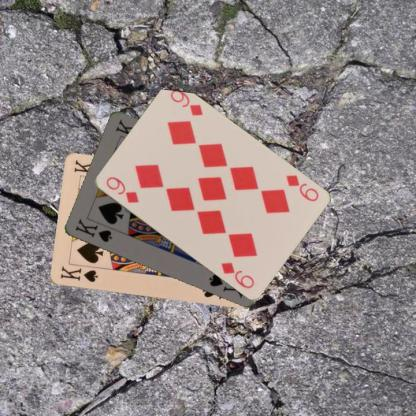9d: (283, 172, 320, 203), (103, 174, 140, 204)
Ks: (72, 216, 113, 244), (57, 264, 99, 284)
